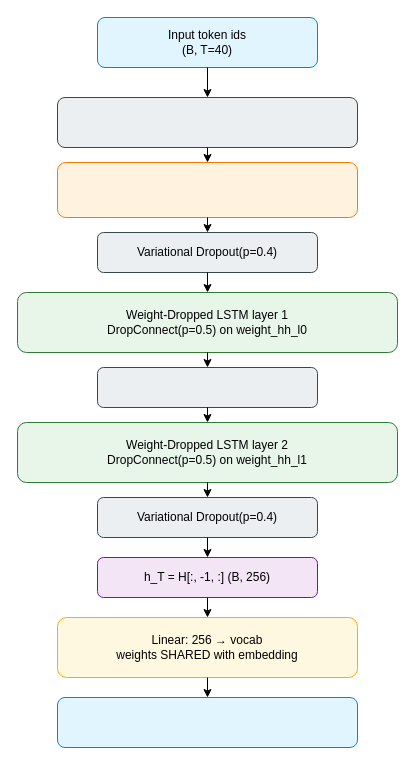
The diagram is 415 pixels wide and 765 high, and some of its shapes have lost their labels. Here are the shapes that lost their labels. From the top down, the centre of each, then its label:
At [207,122]: "Embedding Dropout(p=0.1) (zero whole vocabulary rows)".
At [207,190]: "Embedding vocab → 256 (tied with output FC)".
At [207,387]: "Inter-layer Dropout(p=0.3)".
At [207,722]: "softmax → top-k for next word".
